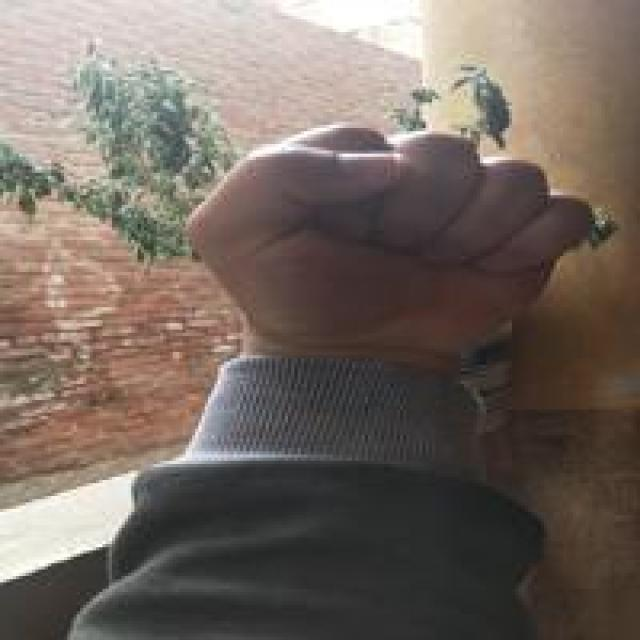S: (180, 109, 610, 355)
